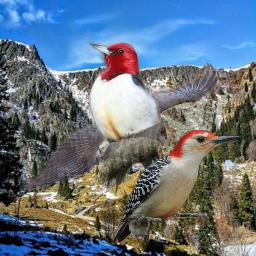Crow: (21, 67, 220, 191)
Woodpecker: (111, 130, 241, 245), (85, 42, 164, 199)
